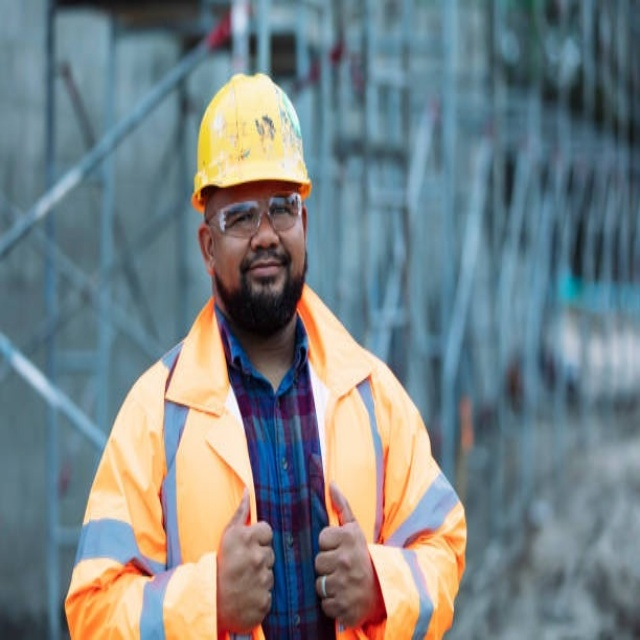Gafas: (208, 194, 304, 237)
Sin_guantes: (312, 479, 378, 630), (216, 481, 276, 635)
Sin_mascara: (239, 251, 288, 303)
